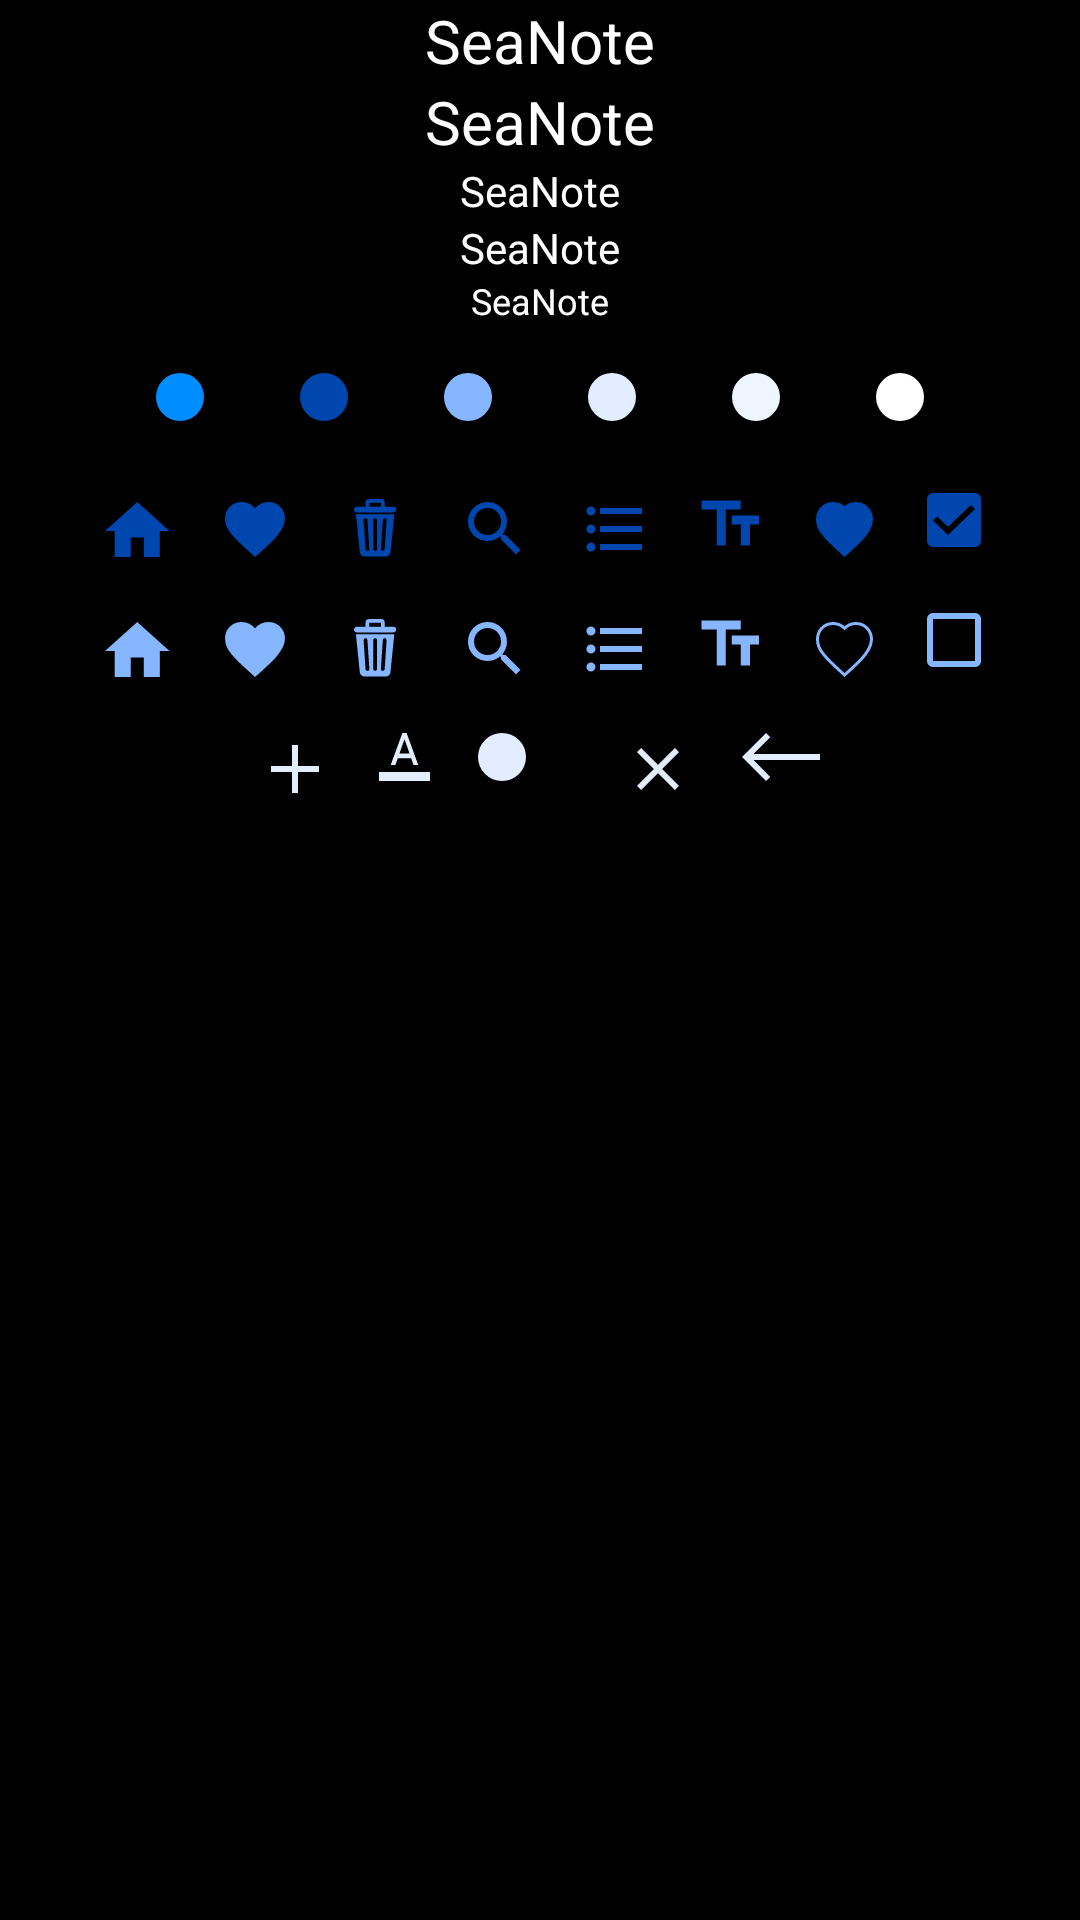

Screen size 1080px x 1920px. Icon name, then its center in pixels as point (x, y):
add: point (295, 769)
arrow back: point (781, 757)
close: point (658, 769)
delete: point (375, 528), point (375, 648)
favorite: point (255, 529), point (255, 649)
home: point (137, 529), point (137, 649)
in favorite: point (844, 529)
in favorite disable: point (844, 649)
list: point (614, 529), point (614, 649)
search: point (494, 528), point (494, 648)
to do list checked: point (954, 520)
to do list unchecked: point (954, 640)
